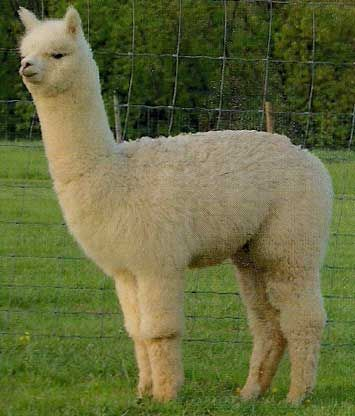alpaca: (14, 4, 334, 405)
